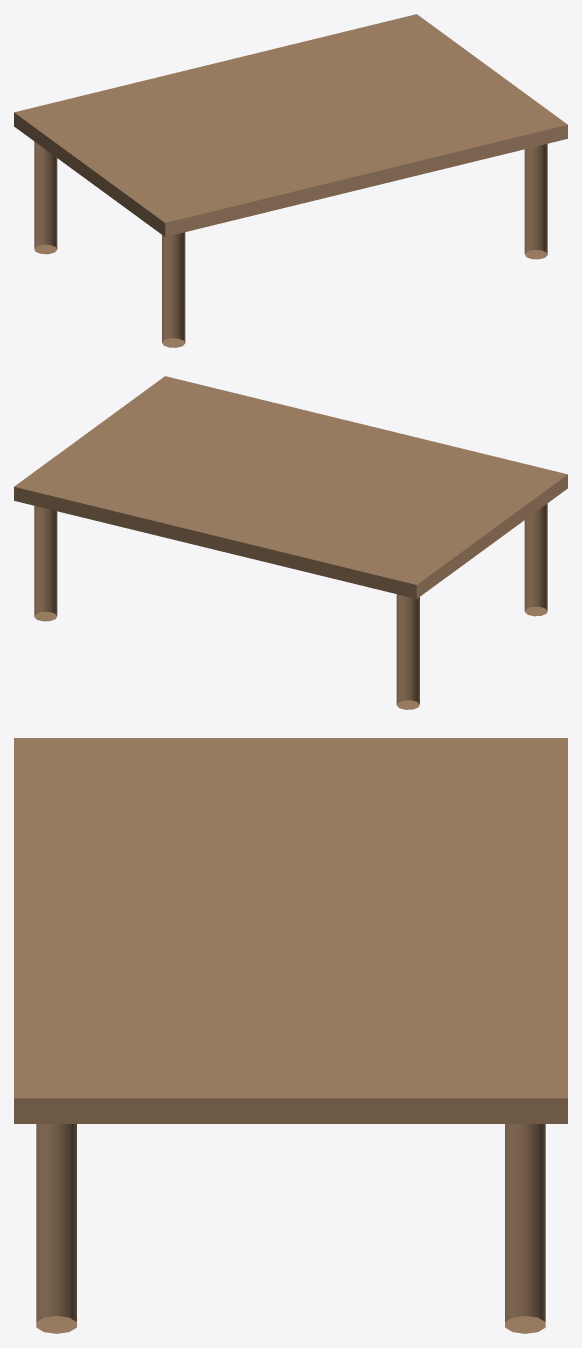
Rendered from coffee_table_07.glb.
3 views of the same model, one above another, from view 1: azimuth 30°, elevation 25°; view 2: azimuth 150°, elevation 25°; view 3: azimuth 270°, elevation 25° (orthographic). The views are drawn at different scales.
Size of the model in its own units: 1.2 by 0.38 by 0.78.
